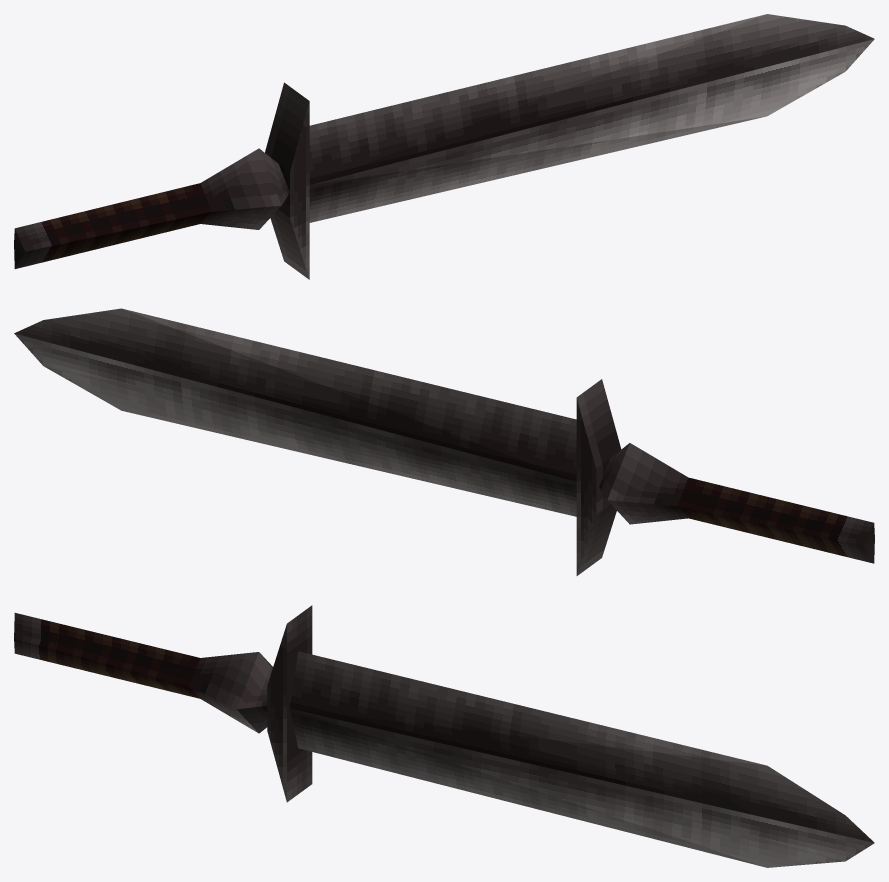
File: 06.WEP_posed.obj
3 views of the same model, one above another, from view 1: azimuth 30°, elevation 25°; view 2: azimuth 150°, elevation 25°; view 3: azimuth 330°, elevation 25° (orthographic).
Size of the model in its own units: 176 by 35 by 16.
1 material, 1 textured.
